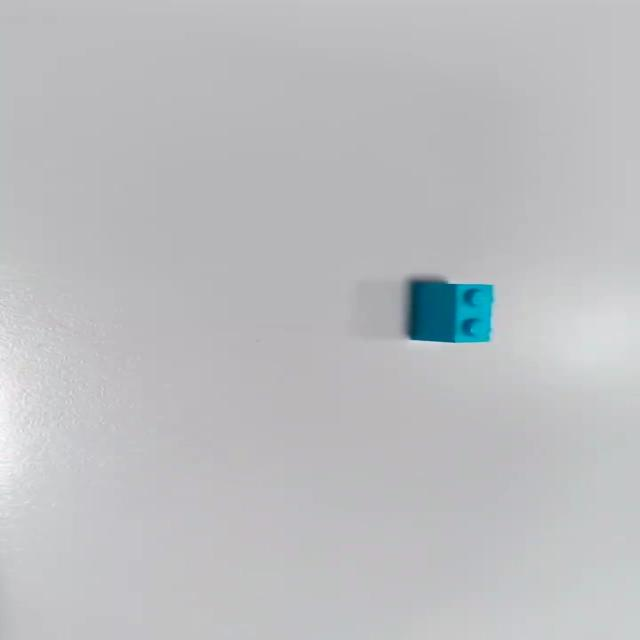C2x1x1: (406, 277, 494, 343)
